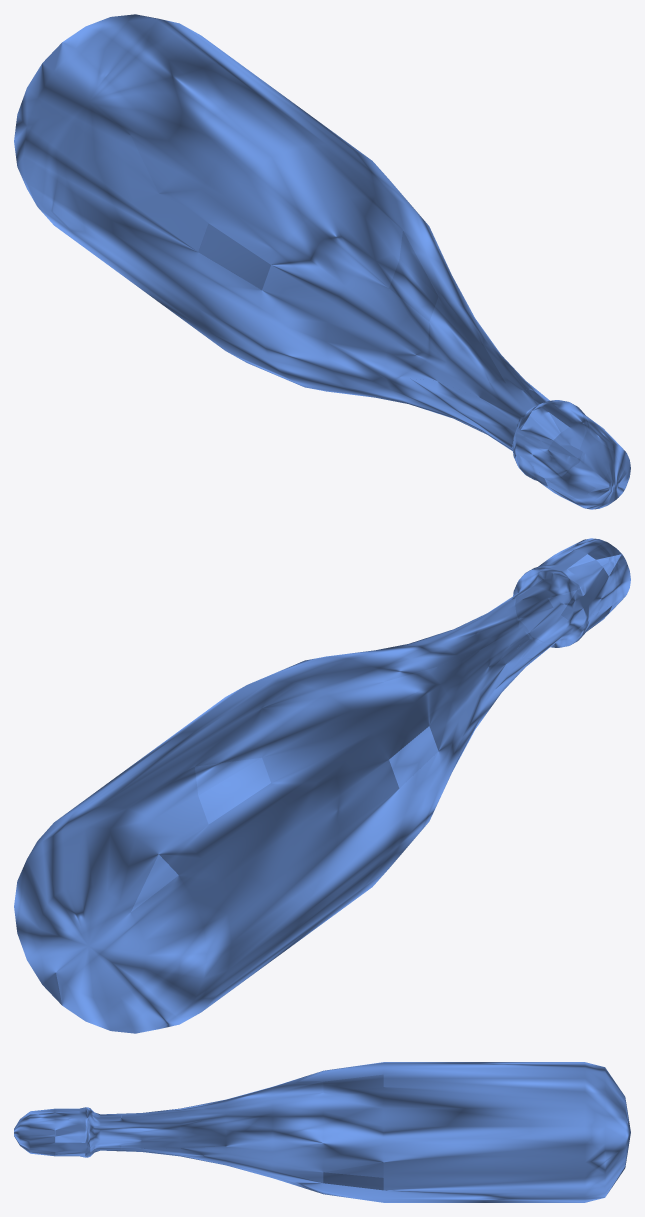
Rendered from model_align.obj.
3 views of the same model, one above another, from view 1: azimuth 30°, elevation 25°; view 2: azimuth 150°, elevation 25°; view 3: azimuth 270°, elevation 25° (orthographic). The views are drawn at different scales.
Bounding box in the file's own units: 0.0636 × 0.0636 × 0.2776.
